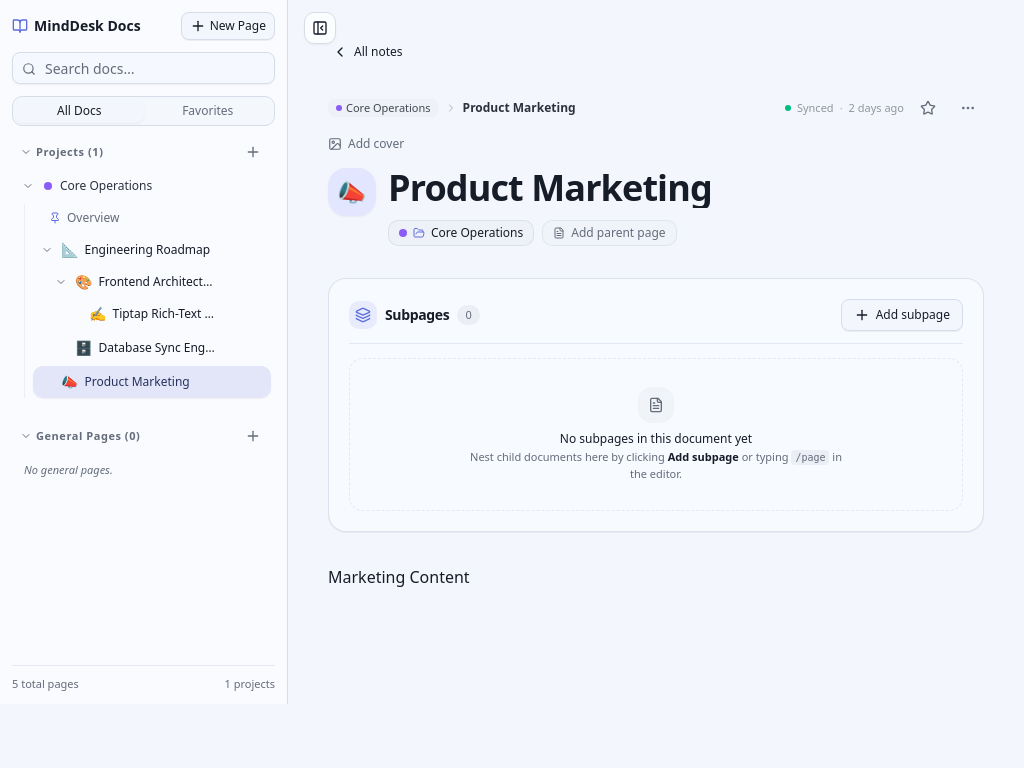
Notes Upgrade: Top-Level Hierarchy & Subpages Experience › adds a new subpage under the parent page via Add subpage button
The width and height of the screenshot is (1024, 768).
Expected: the text "No subpages in this document yet" is shown, [560,431,752,447]
Click Add subpage inside the subpages section
Click the button "Add subpage": (902, 315) [841,299,963,331]
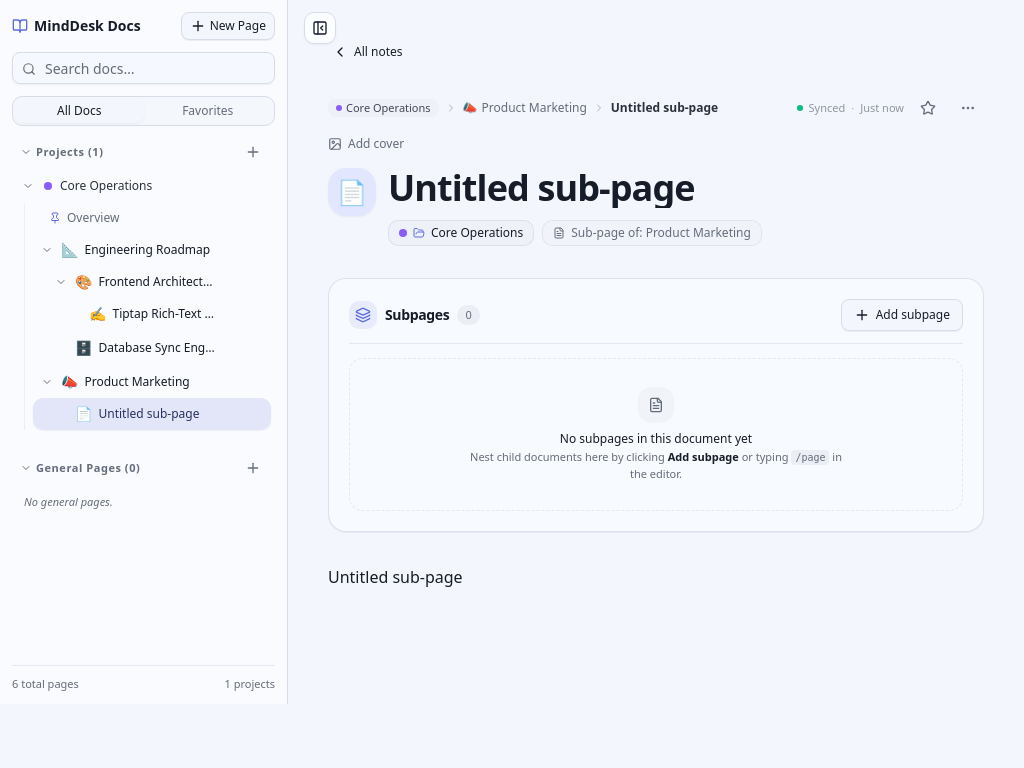
Now the field showing "Untitled sub-page" is shown, box [388,168,984,208]
